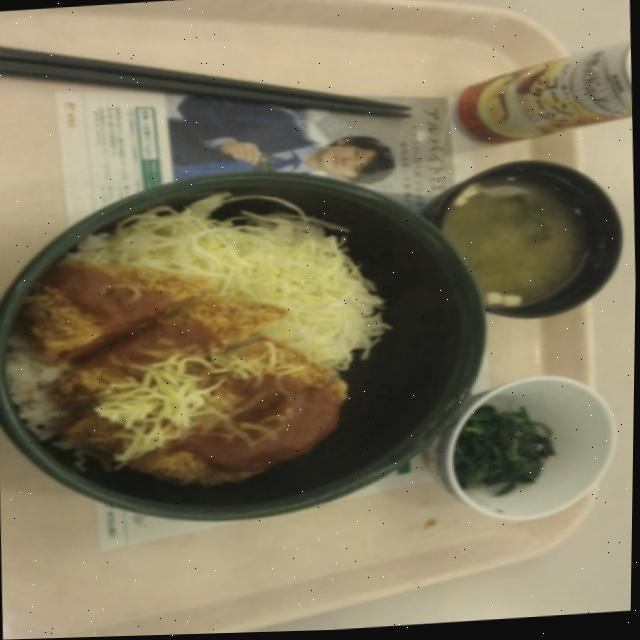汤锅炖物: (432, 152, 628, 327)
